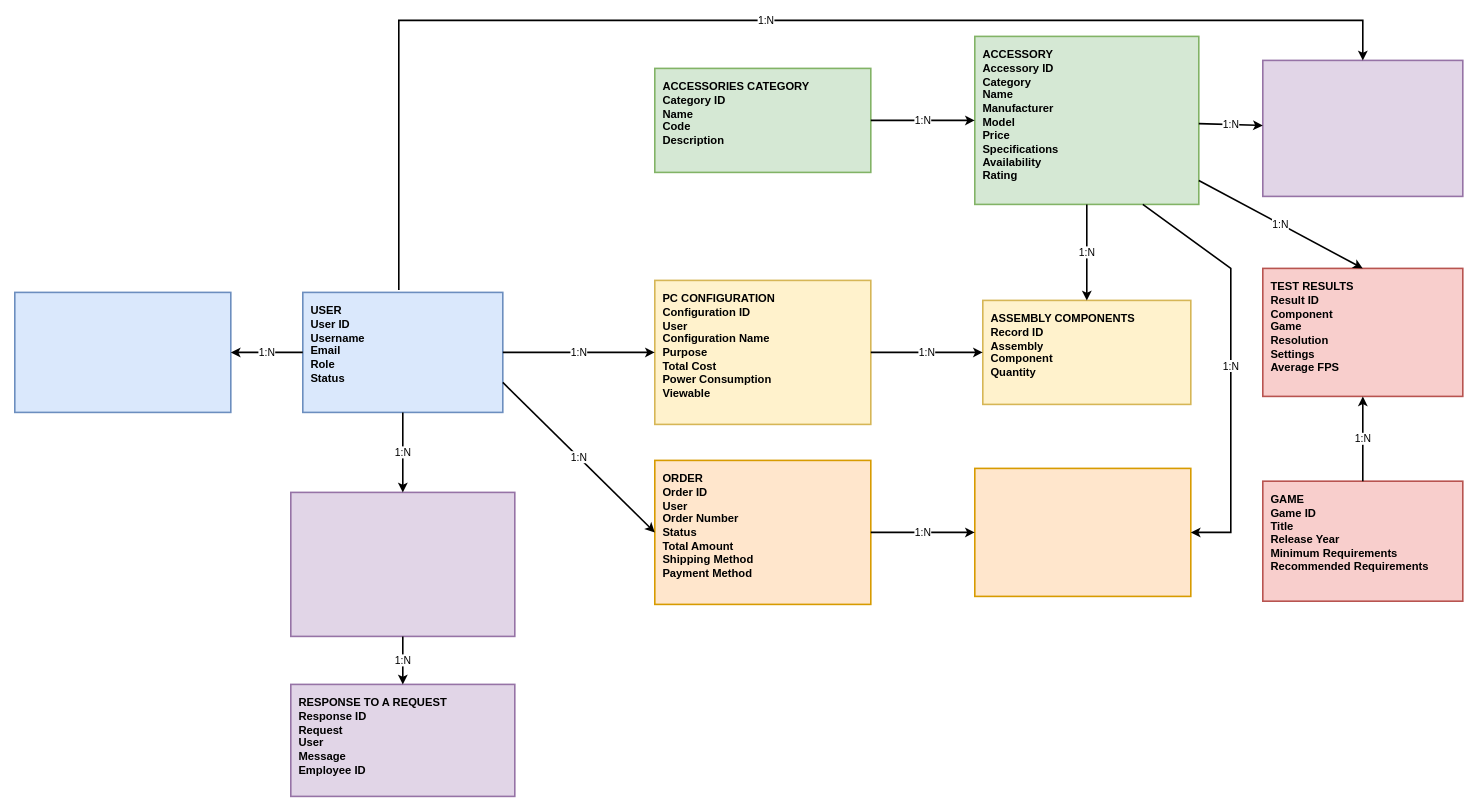
Image size: 1477x810. Some labels were removed from this diagram. Each missing label, with the centre of its shape:
"NOTIFICATION Notification ID User Order Event type Notification text Read status" goes at point 122,352.
"ORDER DETAILS Record ID Order Item Item Name Quantity Price" goes at point 1082,532.
"REVIEW Review ID User Part Rating Title Review text Status" goes at point 1362,128.
"SUPPORT TICKET Ticket ID User Ticket Number Subject Category Status Priority" goes at point 402,564.
